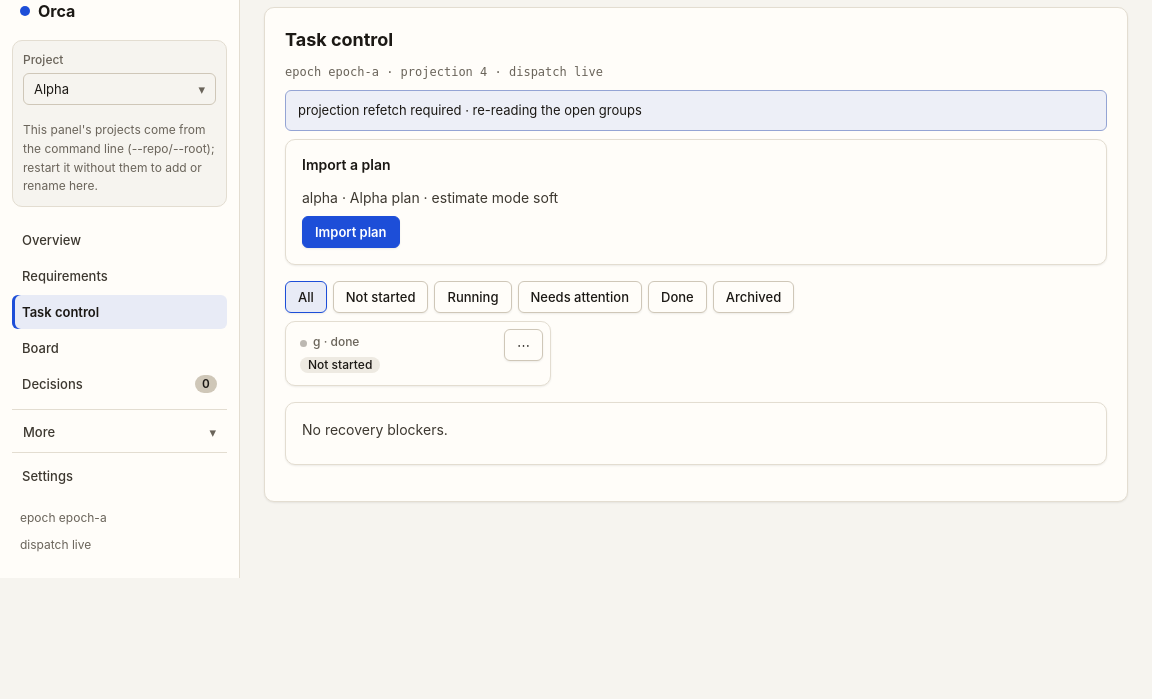
Test case: real App keeps the latest saved capture when a lower same-owner reply arrives
Click the button "g · done Not started": (340, 365) [285,321,551,386]
Wait 1 ms
(page scrolled)
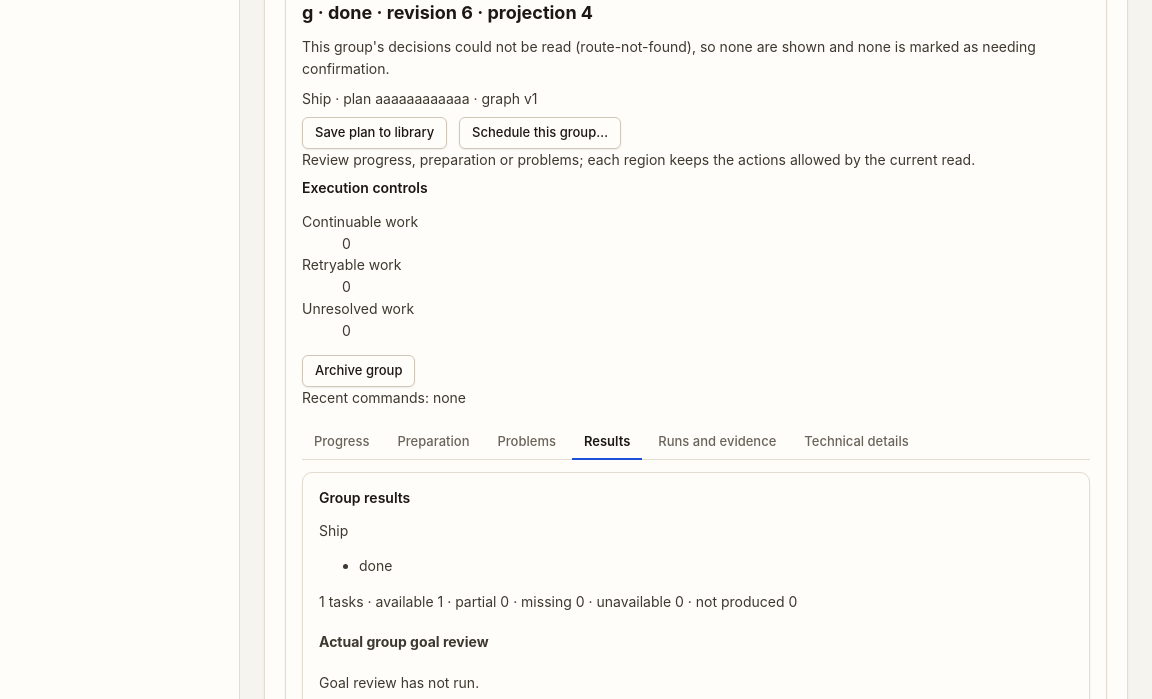
Click the tab "Progress": (342, 443) [302,425,382,460]
(page scrolled)
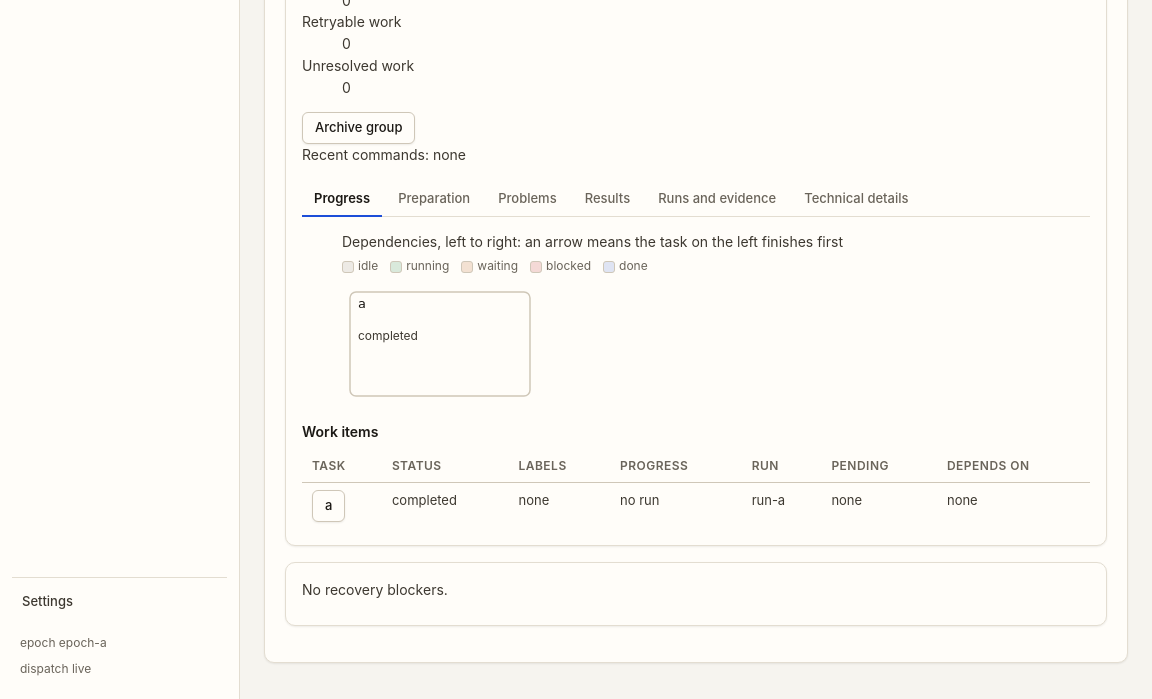
Click the button "a": (329, 506) [312,490,345,522]
Wait 1 ms
(page scrolled)
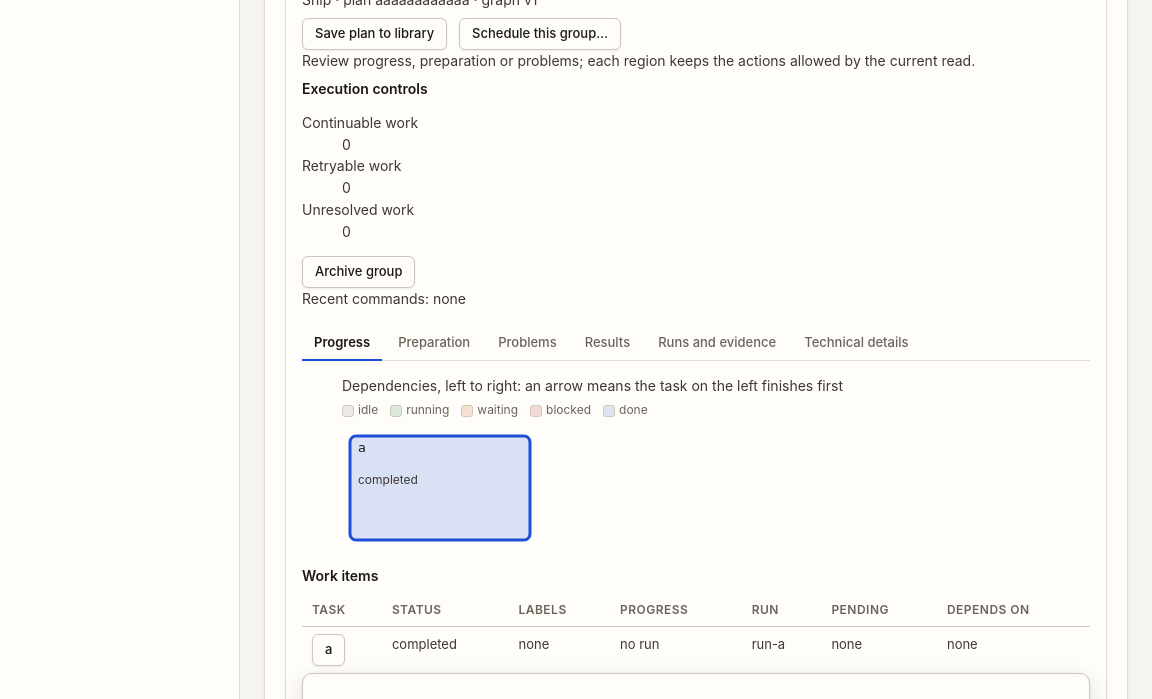
Click the tab "Results": (607, 344) [573,326,642,361]
Wait 2001 ms
(page scrolled)
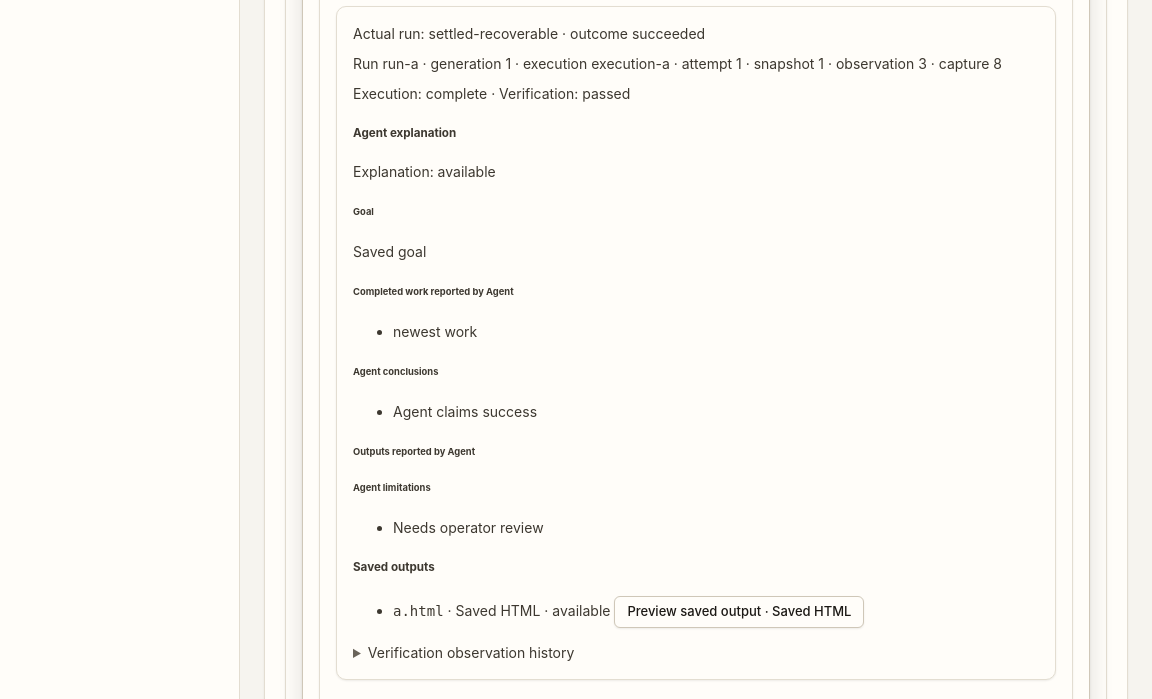
Check: the element named "Current result · run-a" shows "newest work", box [393,323,477,340]
